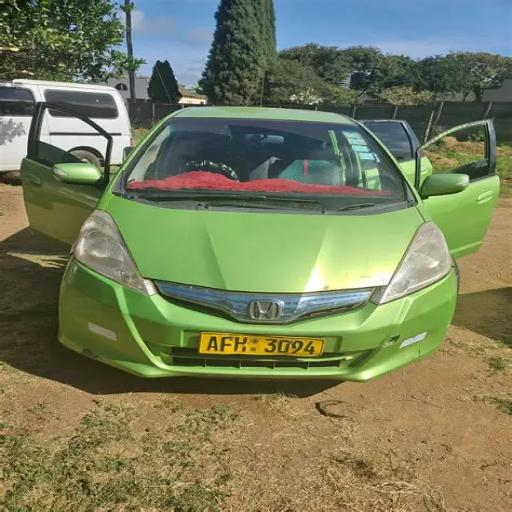number-plates: (201, 331, 326, 359)
